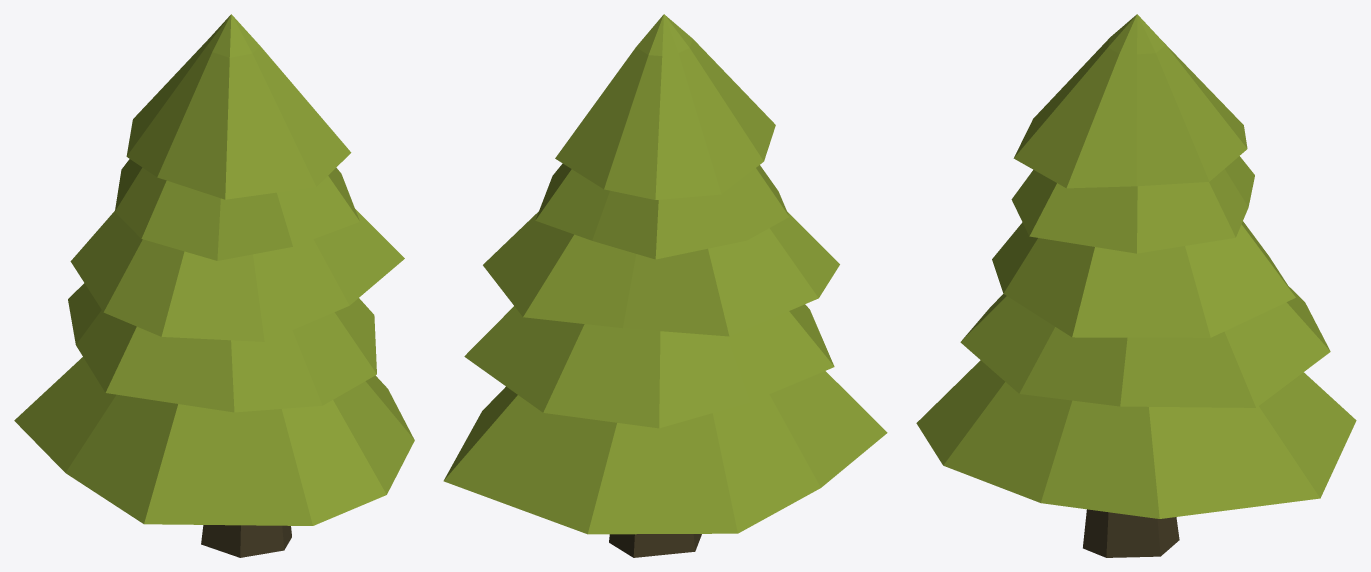
Rendered from agac.fbx.
3 renders of one model, left to right at view 1: azimuth 30°, elevation 25°; view 2: azimuth 150°, elevation 25°; view 3: azimuth 270°, elevation 25°, orthographic.
Visible parts, largest first — view 1: cam agacı; view 2: cam agacı; view 3: cam agacı.
Part boxes in pixels (<box>): cam agacı: <box>14,14,414,557</box>; cam agacı: <box>443,14,887,557</box>; cam agacı: <box>916,14,1356,557</box>.
Bounding box in the file's own units: 152 × 232 × 177.
1 material, 1 textured.
